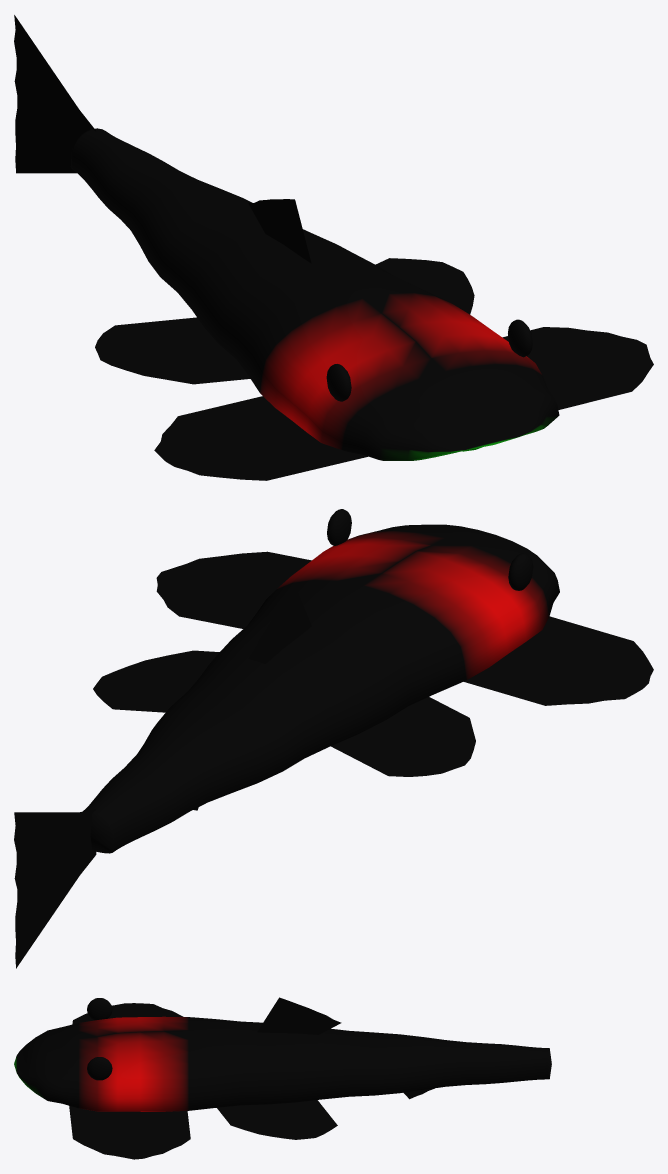
The model's file is hillstream-loach.glb.
3 views of the same model, one above another, from view 1: azimuth 30°, elevation 25°; view 2: azimuth 150°, elevation 25°; view 3: azimuth 270°, elevation 25° (orthographic). The views are drawn at different scales.
Visible parts, largest first — view 1: hill_body, hill_pectoralL, hill_pectoralR, hill_caudal, hill_pelvicL, hill_pelvicR, hill_dorsal, hill_eyeL, hill_eyeR; view 2: hill_body, hill_pectoralL, hill_caudal, hill_pectoralR, hill_pelvicL, hill_pelvicR, hill_dorsal, hill_eyeL, hill_eyeR; view 3: hill_body, hill_pectoralR, hill_pelvicR, hill_dorsal, hill_pectoralL, hill_eyeR, hill_eyeL.
Part boxes in pixels (x1=…): hill_body: x1=70, y1=128, x2=559, y2=460; hill_pectoralL: x1=154, y1=396, x2=367, y2=480; hill_pectoralR: x1=502, y1=327, x2=653, y2=409; hill_caudal: x1=14, y1=15, x2=96, y2=173; hill_pelvicL: x1=95, y1=317, x2=250, y2=384; hill_pelvicR: x1=375, y1=258, x2=474, y2=314; hill_dorsal: x1=248, y1=199, x2=311, y2=263; hill_eyeL: x1=326, y1=364, x2=351, y2=401; hill_eyeR: x1=508, y1=319, x2=532, y2=357; hill_body: x1=83, y1=524, x2=559, y2=853; hill_pectoralL: x1=464, y1=616, x2=653, y2=705; hill_caudal: x1=14, y1=809, x2=96, y2=968; hill_pectoralR: x1=156, y1=551, x2=311, y2=628; hill_pelvicL: x1=331, y1=697, x2=475, y2=776; hill_pelvicR: x1=93, y1=650, x2=219, y2=712; hill_dorsal: x1=248, y1=586, x2=311, y2=663; hill_eyeL: x1=508, y1=553, x2=533, y2=590; hill_eyeR: x1=327, y1=509, x2=351, y2=545; hill_body: x1=14, y1=1016, x2=551, y2=1111; hill_pectoralR: x1=69, y1=1105, x2=190, y2=1159; hill_pelvicR: x1=217, y1=1100, x2=337, y2=1139; hill_dorsal: x1=257, y1=997, x2=341, y2=1034; hill_pectoralL: x1=72, y1=1003, x2=183, y2=1024; hill_eyeR: x1=87, y1=1057, x2=112, y2=1080; hill_eyeL: x1=87, y1=998, x2=112, y2=1020.
Size of the model in its own units: 0.6908 by 0.2448 by 1.19.
